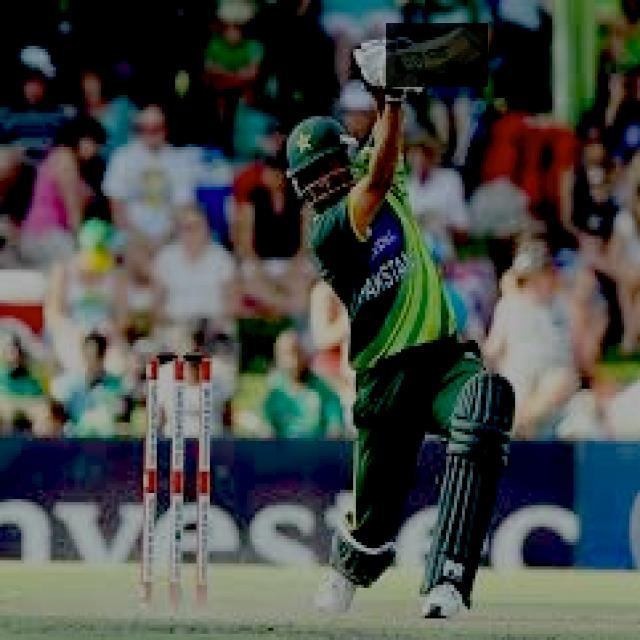bat: (389, 21, 490, 90), (468, 16, 486, 61)
